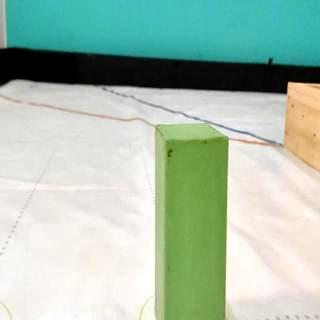greenbox: (151, 120, 230, 320)
